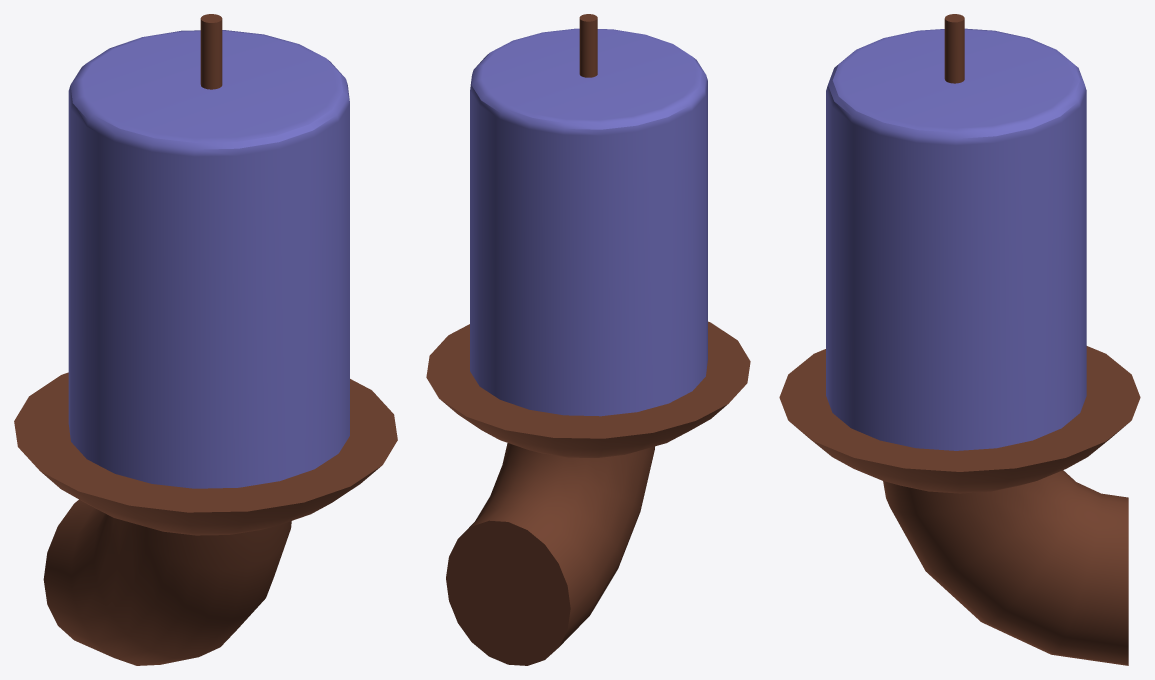
The model's file is vela.obj.
The picture shows the model from 3 angles, left to right: view 1: azimuth 30°, elevation 25°; view 2: azimuth 150°, elevation 25°; view 3: azimuth 270°, elevation 25°; orthographic projection. The views are drawn at different scales.
Parts seen in each view (by area): view 1: pCylinder19, pTorus1, pSphere2, pCylinder20; view 2: pCylinder19, pTorus1, pSphere2, pCylinder20; view 3: pCylinder19, pTorus1, pSphere2, pCylinder20.
Boxes of the visible parts, x1,y1,x2,y2 form: pCylinder19: (68, 30, 349, 488); pTorus1: (43, 499, 291, 665); pSphere2: (14, 372, 397, 535); pCylinder20: (200, 14, 222, 89); pCylinder19: (470, 28, 707, 416); pTorus1: (446, 443, 654, 665); pSphere2: (426, 321, 750, 457); pCylinder20: (579, 14, 597, 77); pCylinder19: (826, 28, 1086, 450); pTorus1: (883, 470, 1128, 665); pSphere2: (779, 346, 1140, 493); pCylinder20: (944, 14, 964, 83).
Size of the model in its own units: 1.79 by 3.59 by 1.83.
2 materials, 2 textured.
